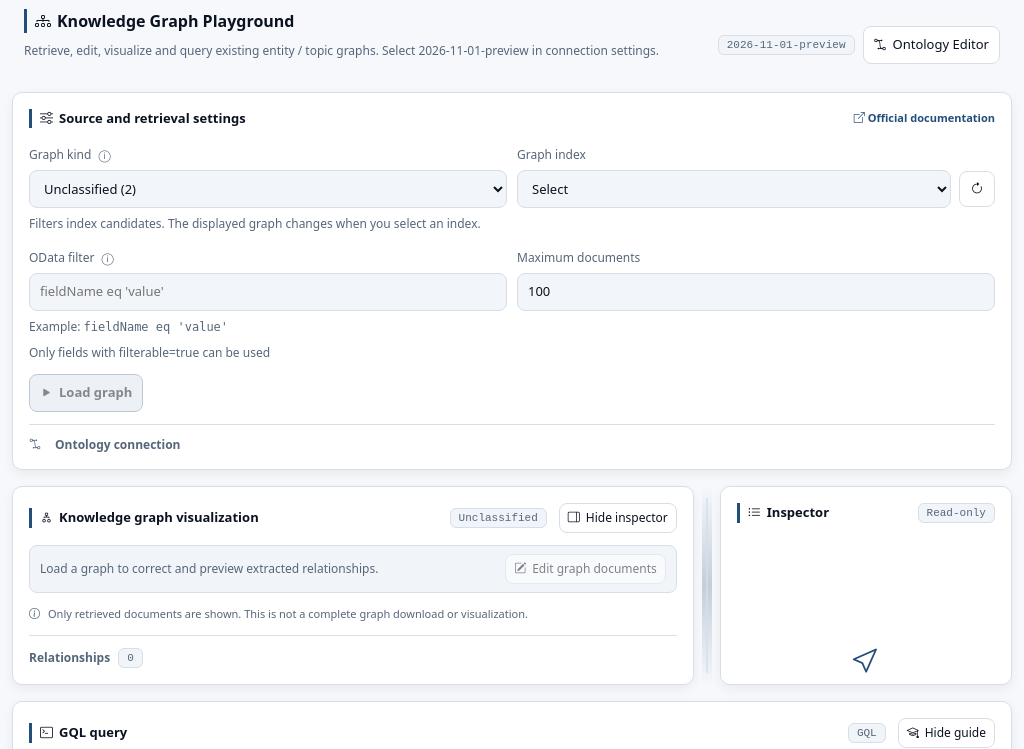
Test case: KnowledgeGraphPlayground controls › inserts a template generated from the loaded graph, announces it and restores the previous query on undo
Select "graph-a" in the dropdown named "Graph index". click: (734, 189)
box: x1=517 y1=170 x2=951 y2=208
(page scrolled)
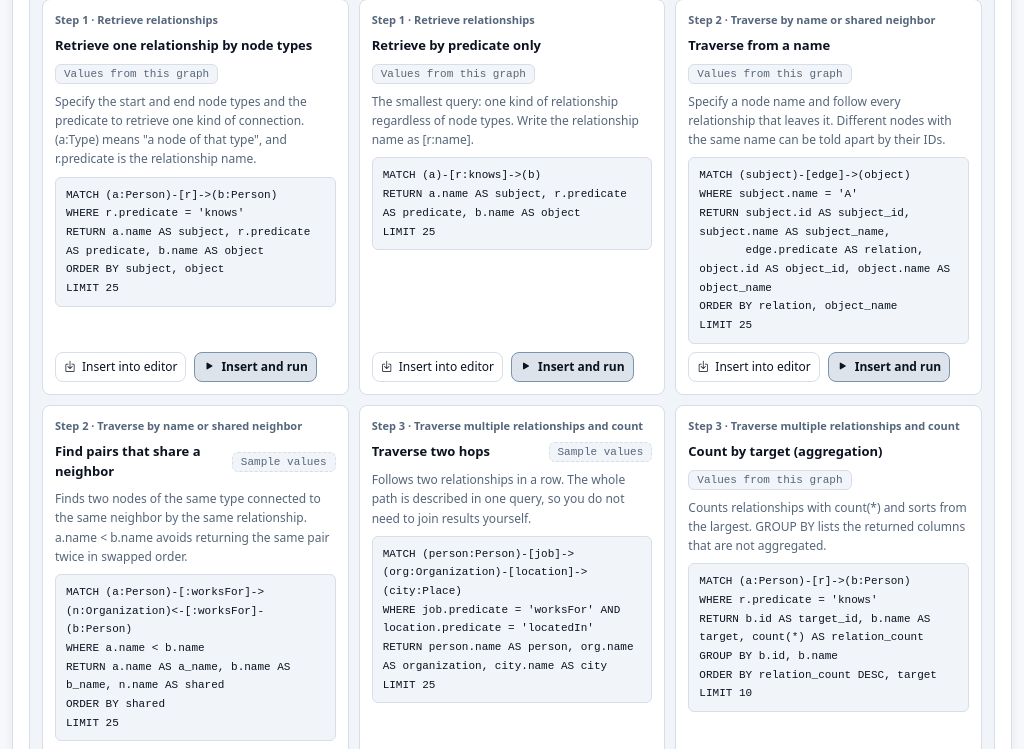
expect the text "Values from this graph" below "Retrieve one relationship by node types" is shown: met, box x1=64 y1=68 x2=209 y2=80
Click the button "Insert into editor" below "Retrieve one relationship by node types". click: (121, 367)
box: x1=55 y1=352 x2=186 y2=382
(page scrolled)
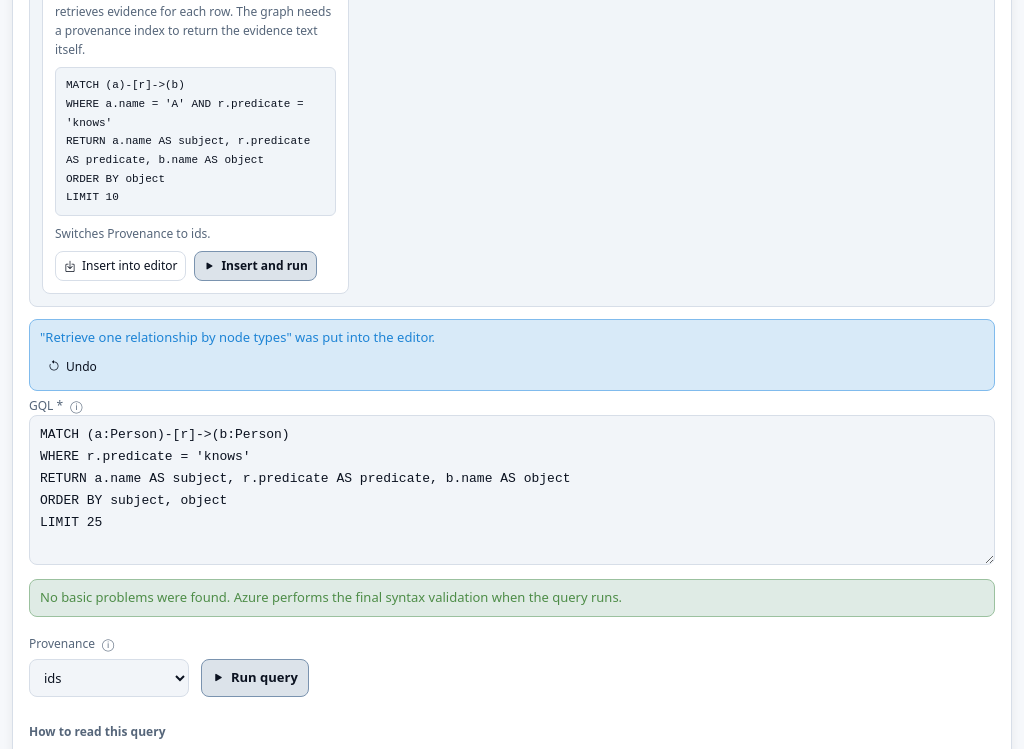
expect the text "\"Retrieve one relationship by node types\" was put into the editor." is shown: met, box x1=40 y1=328 x2=435 y2=346
Click the button "Undo". click: (72, 367)
box: x1=40 y1=352 x2=105 y2=382
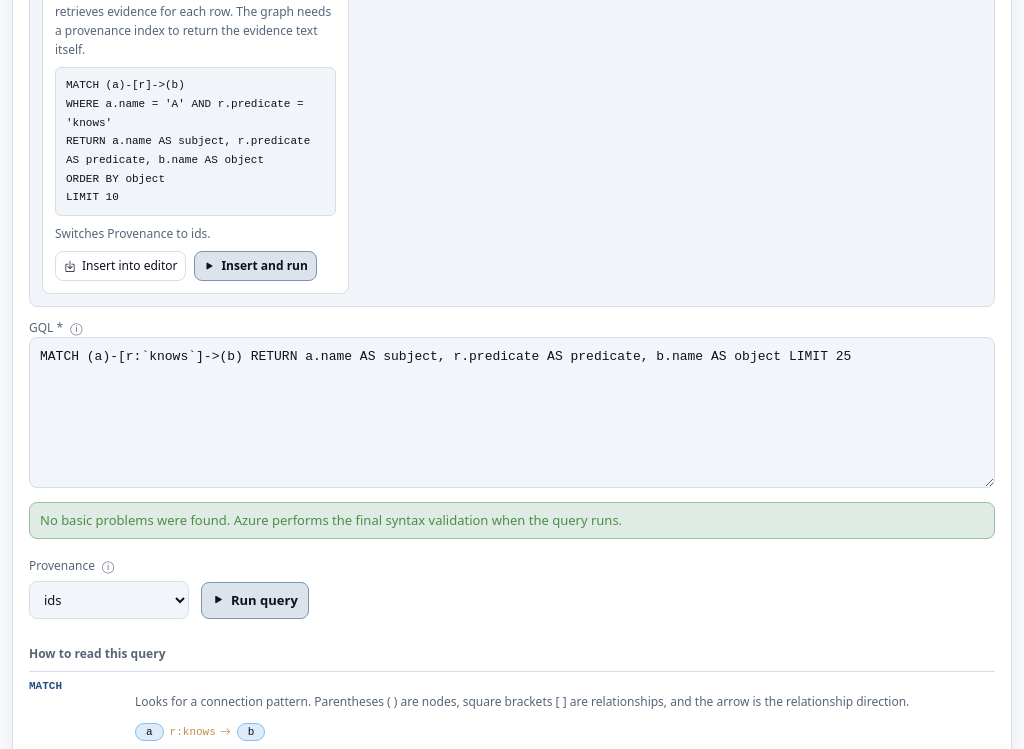
expect the text box named "GQL" holds "MATCH (a)-[r:`knows`]->(b) RETURN a.name AS subject, r.predicate AS predicate, b.name AS object LIMIT 25": met, box x1=29 y1=337 x2=995 y2=488
